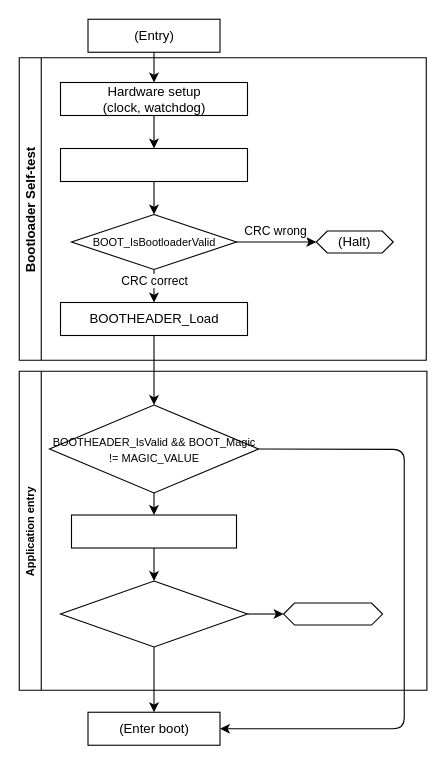
Some shapes in this 447 by 765 pixel diagram are drawn without their labels. The shapes that lost their labels are listed below. From the top down, each one's centre as x and y in pixels, then its label:
the point at 153,164: BOOT_CheckBootloader
the point at 153,531: BOOT_CheckApplication
the point at 153,613: BOOT_IsApplicationValid
the point at 332,613: (Enter app.)
